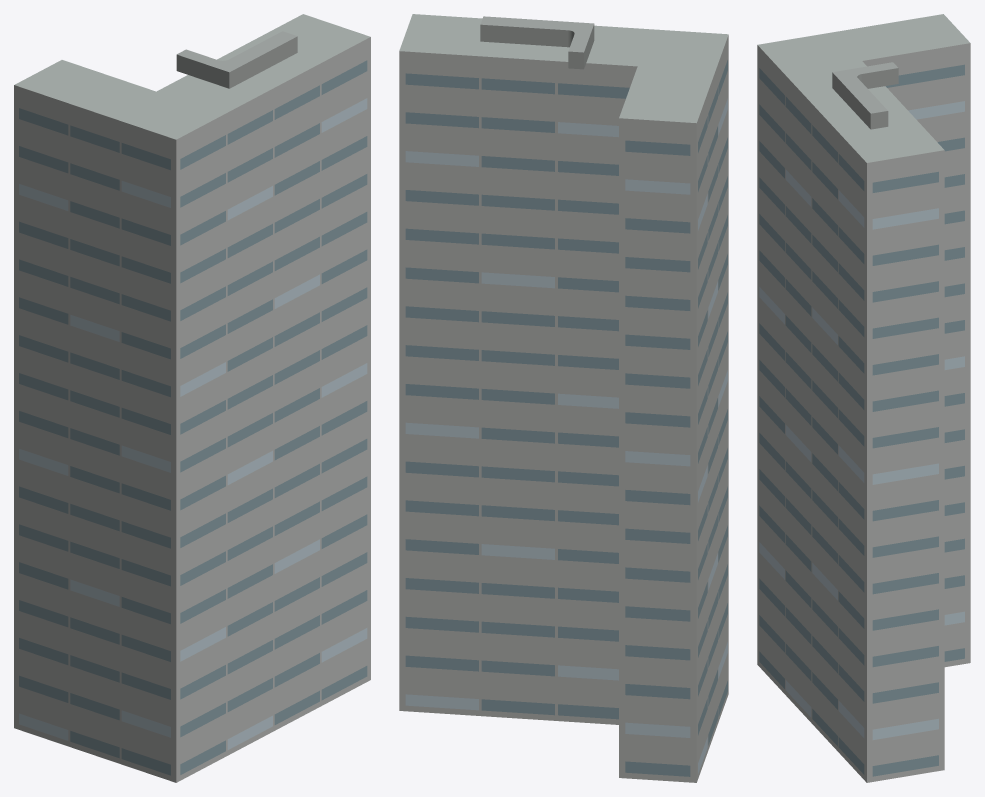
File: fallback-songpa-helio-city-219.glb
3 renders of one model, left to right at view 1: azimuth 30°, elevation 25°; view 2: azimuth 150°, elevation 25°; view 3: azimuth 270°, elevation 25°, orthographic. The views are drawn at different scales.
Visible parts, largest first — view 1: fallback-songpa-helio-city-219; view 2: fallback-songpa-helio-city-219; view 3: fallback-songpa-helio-city-219.
Boxes of the visible parts, box(x1,y1,x2,y2) form: fallback-songpa-helio-city-219: box(14, 14, 370, 782); fallback-songpa-helio-city-219: box(399, 14, 728, 782); fallback-songpa-helio-city-219: box(757, 14, 970, 782).
Bounding box in the file's own units: 48.26 × 96 × 29.18.
